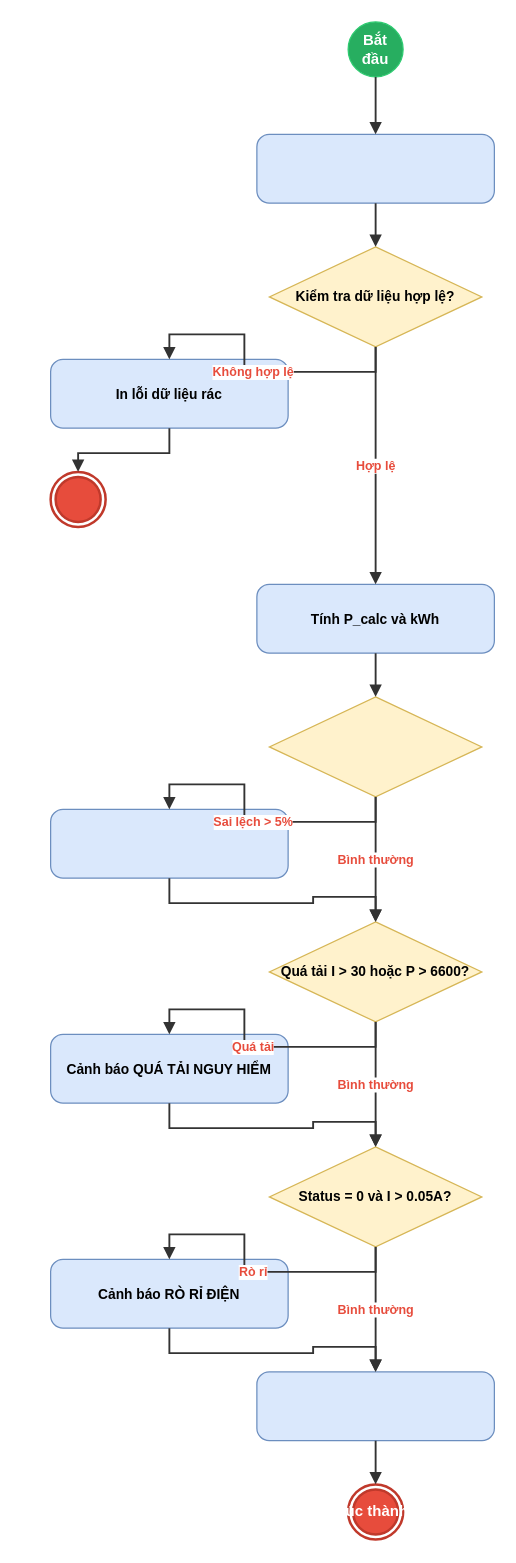
This 516x1563 diagram has some shape labels left out. Each missing label, with the box of its shape:
Cảnh báo sai lệch cảm biến: (49, 808, 288, 878)
In kết quả & điện năng: (256, 1371, 494, 1441)
Kết thúc (Dừng): (49, 470, 106, 528)
Nhập U, I, t, status: (256, 133, 494, 203)
Sai lệch P quá 5%?: (268, 696, 482, 797)
